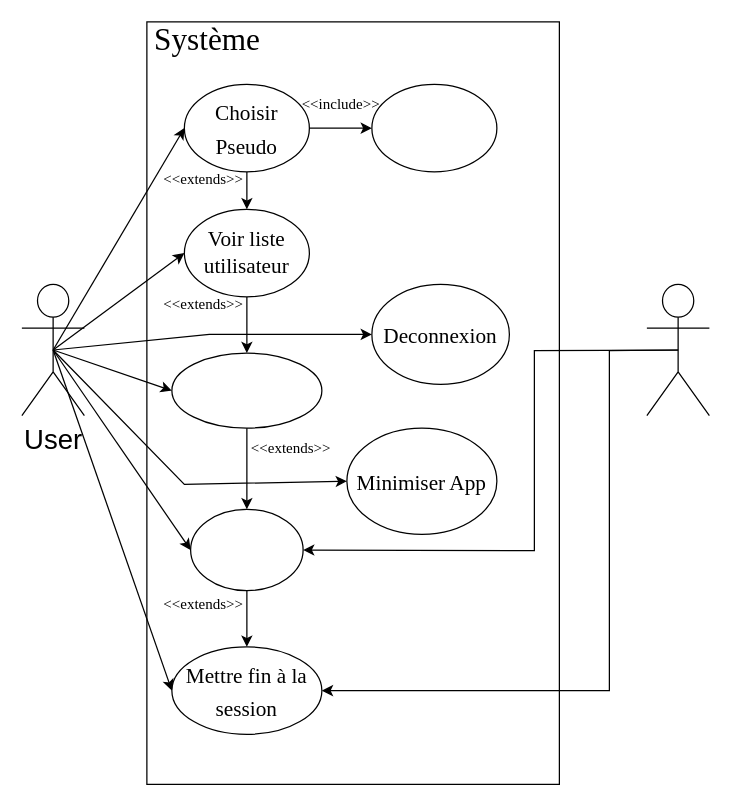
This 748x806 diagram has some shape labels left out. The centre of each missing label's shape, as x and y in pixels:
"Clavarder" goes at point 246,549.
"Ouvrir session clavardage" goes at point 246,390.
"User Externe" goes at point 677,349.
"Vérifier pseudo" goes at point 434,127.
